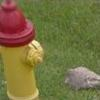a fire hydrant: (0, 0, 52, 99)
